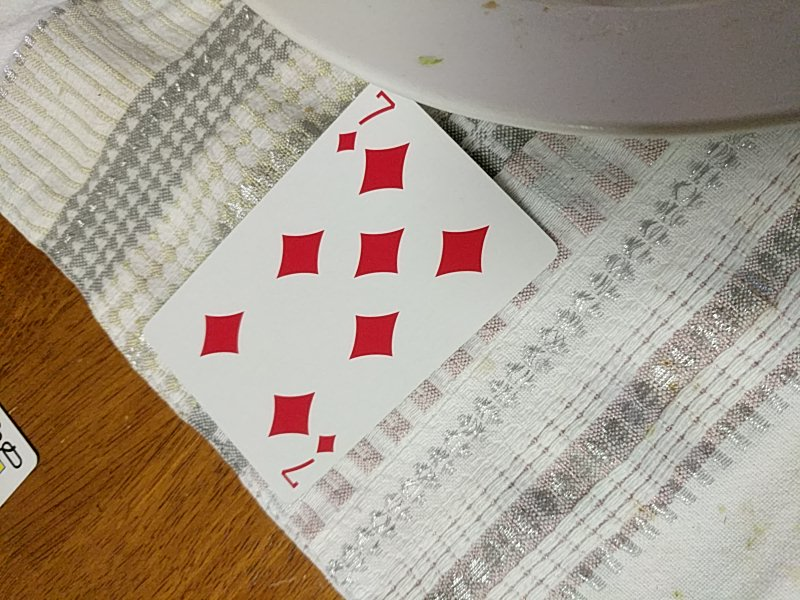Diamonds: (139, 79, 563, 505)
